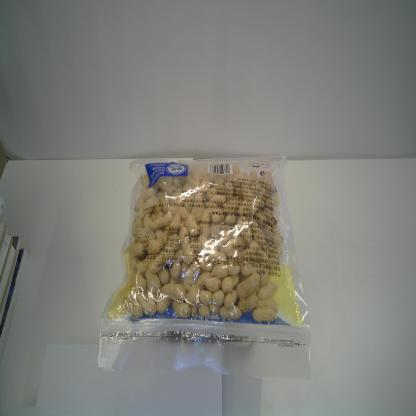Dried Food: (95, 153, 313, 385)
